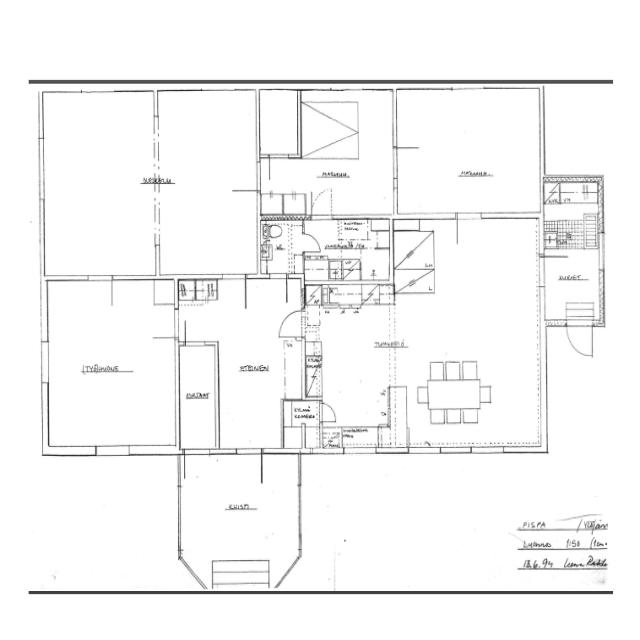door: (180, 447, 212, 483), (565, 322, 595, 360), (308, 185, 336, 224), (276, 308, 304, 340), (300, 231, 323, 256), (266, 151, 291, 174), (267, 272, 289, 298), (318, 400, 339, 424)
window: (37, 338, 52, 384), (93, 442, 133, 459), (597, 232, 607, 274)
zone: (42, 280, 176, 453), (41, 90, 155, 281), (157, 88, 258, 280), (395, 87, 542, 217), (406, 215, 542, 352), (216, 278, 304, 452), (308, 306, 392, 429), (260, 91, 344, 161), (538, 250, 604, 324), (420, 366, 490, 429), (298, 95, 362, 162), (544, 181, 600, 253), (328, 224, 390, 284), (258, 89, 300, 160), (393, 225, 435, 294), (260, 217, 304, 276), (281, 399, 321, 449), (303, 252, 344, 286)
